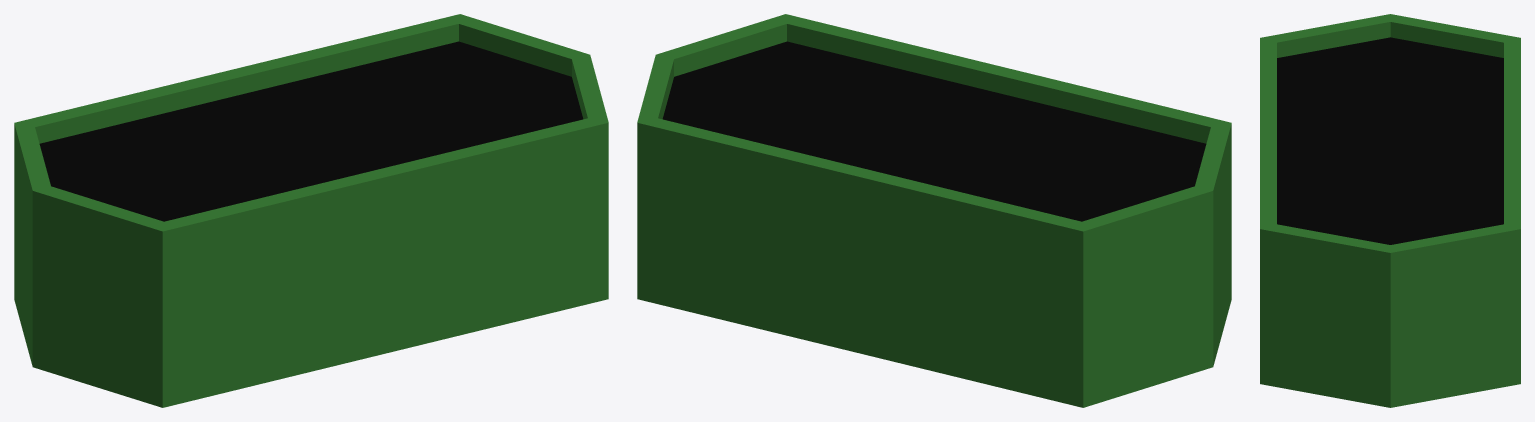
File: USVn.glb
3 views of the same model, side by side, from view 1: azimuth 30°, elevation 25°; view 2: azimuth 150°, elevation 25°; view 3: azimuth 270°, elevation 25° (orthographic). The views are drawn at different scales.
Visible parts, largest first — view 1: USVn; view 2: USVn; view 3: USVn.
Boxes of the visible parts, <box> form: USVn: <box>14,14,608,407</box>; USVn: <box>637,14,1231,407</box>; USVn: <box>1260,14,1520,407</box>.
Bounding box in the file's own units: 0.0196 × 0.00594 × 0.00906.
